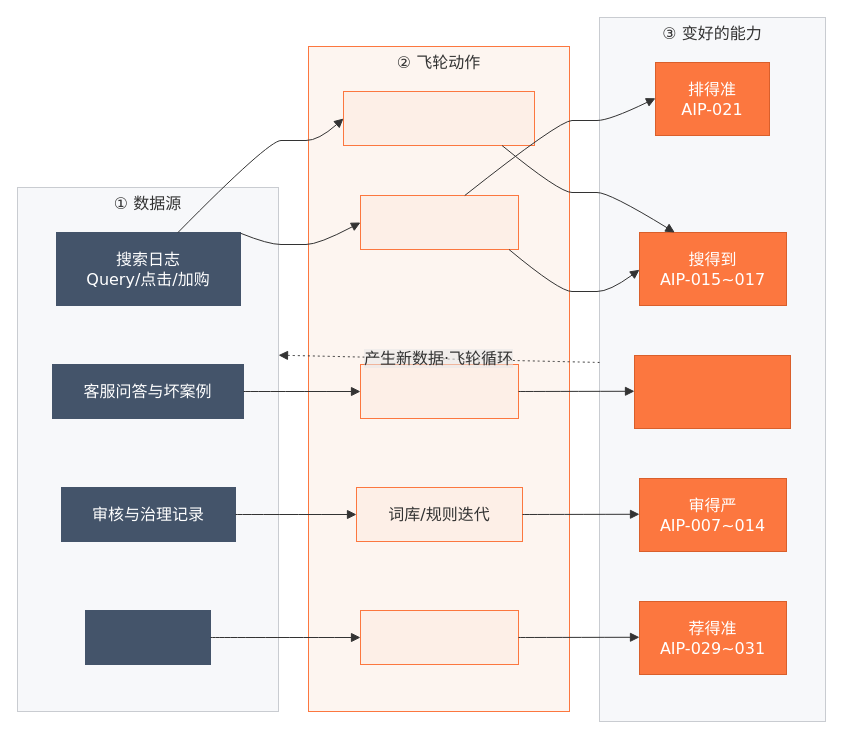
The diagram is 843 pixels wide and 739 high, and some of its shapes have lost their labels. The centre of each missing label's shape, as x and y in pixels:
同义词库自动挖掘: point (438, 118)
排序模型更新: point (439, 222)
猜你喜欢训练: point (439, 637)
知识库补条目: point (439, 391)
答得对 AICS-018~023: point (712, 391)
订单数据: point (147, 637)
